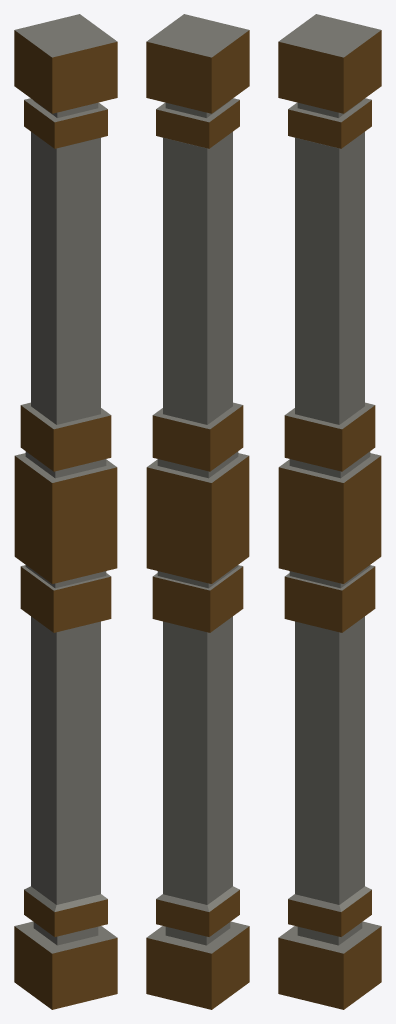
The model's file is pillar.fbx.
The picture shows the model from 3 angles, left to right: view 1: azimuth 30°, elevation 25°; view 2: azimuth 150°, elevation 25°; view 3: azimuth 330°, elevation 25°; orthographic projection.
Parts seen in each view (by area): view 1: Pillar; view 2: Pillar; view 3: Pillar.
Part boxes in pixels (<box>): Pillar: <box>14,14,117,1009</box>; Pillar: <box>146,14,249,1009</box>; Pillar: <box>278,14,381,1009</box>.
Bounding box in the file's own units: 37.52 × 522 × 37.52.
